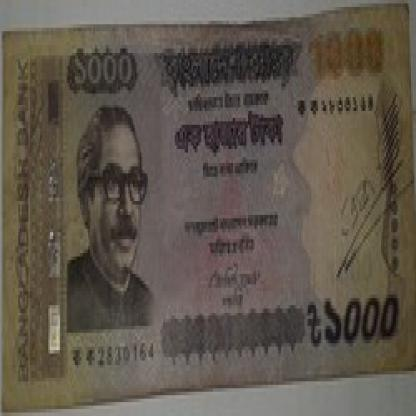One Thousand taka: (304, 295, 408, 350), (305, 31, 386, 80), (168, 118, 288, 149), (65, 48, 138, 94)
